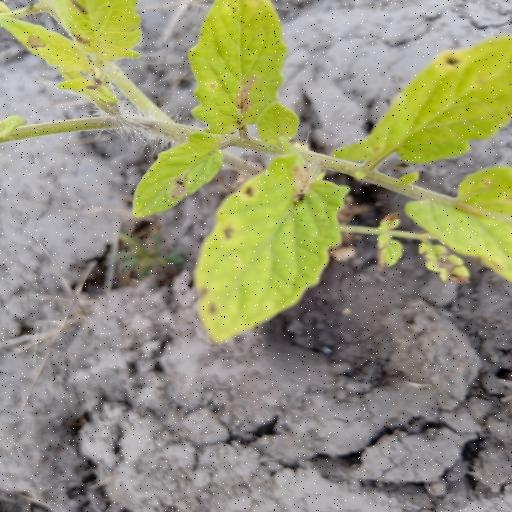Tomato_Brown_Spots: (194, 156, 355, 349)
